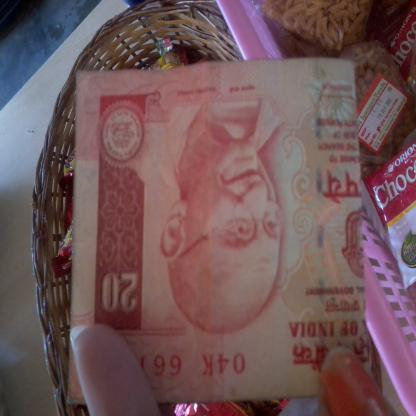Old20Front: (76, 71, 368, 392)
